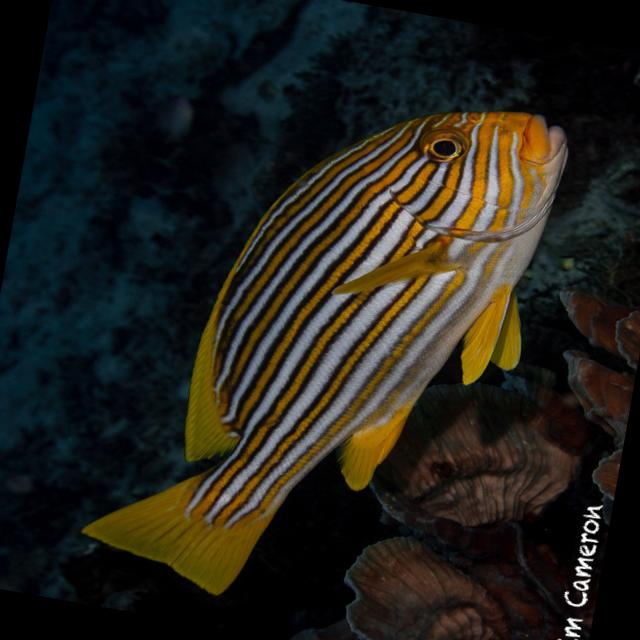RibbonedSweetlips: (71, 45, 576, 640)
